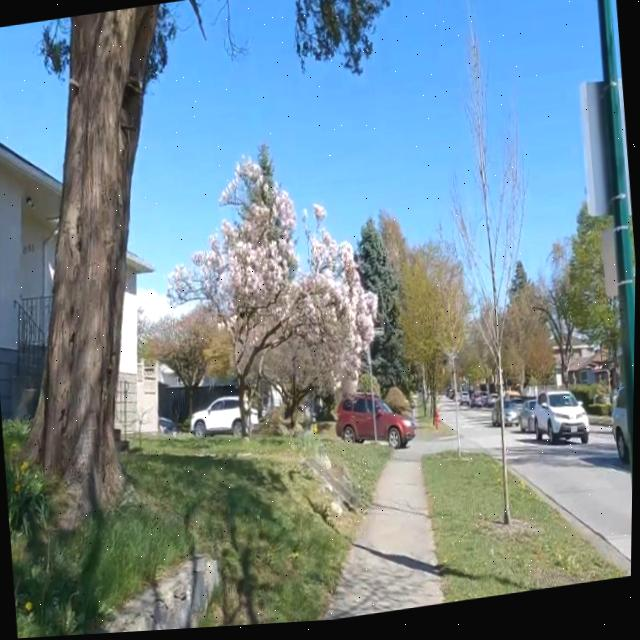Automobile: (337, 397, 416, 452), (523, 396, 589, 451), (191, 398, 241, 438), (613, 395, 629, 470), (505, 406, 519, 432), (250, 412, 260, 431), (493, 409, 501, 431)
Road: (506, 433, 633, 579), (511, 440, 633, 568), (460, 415, 500, 461)
Sidewalk: (325, 452, 443, 625)
